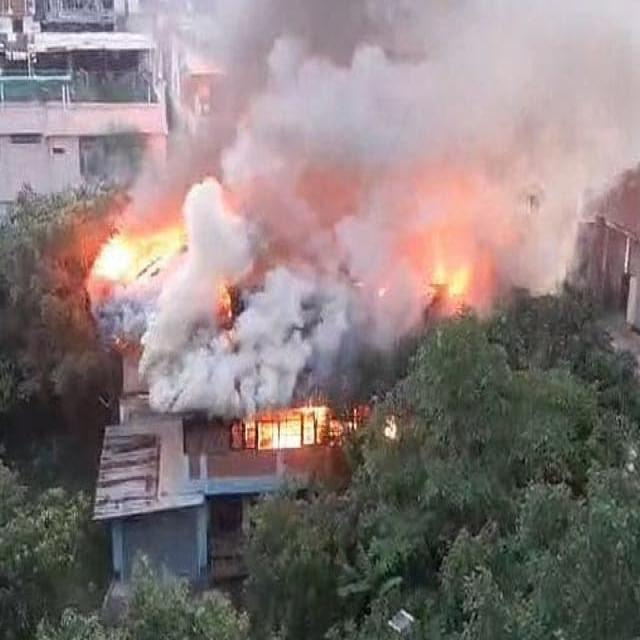fire: (245, 405, 328, 446), (91, 234, 132, 282)
